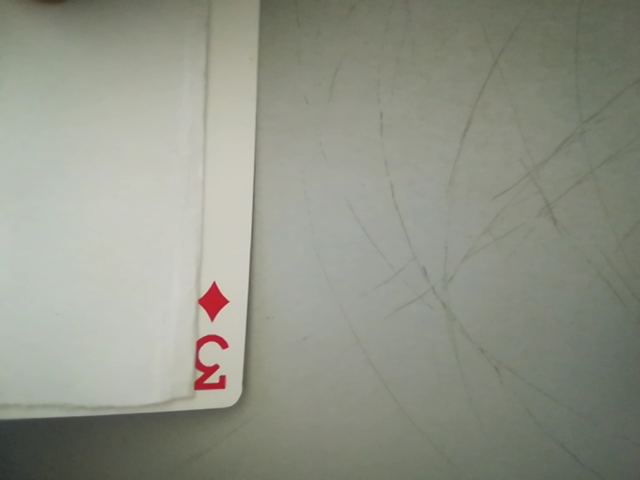fk 3: (178, 276, 244, 403)
